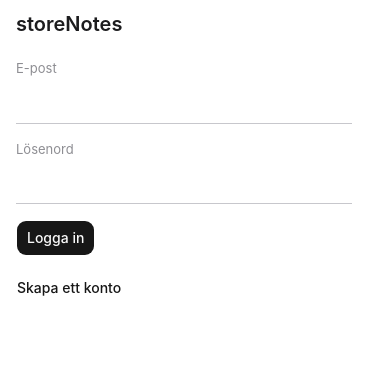
Test: signing in › explains an email that has not been confirmed
In the field labelled "E-post": (184, 103) [16,82,352,124], type "anna@example.com"
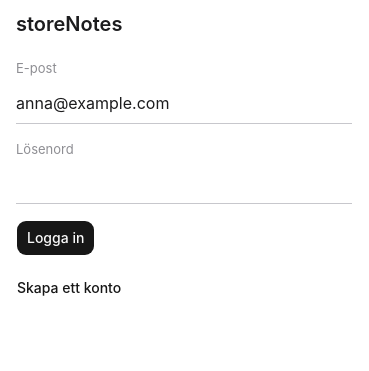
In the password field labelled "Lösenord": (184, 184) [16,163,352,204], type "correct horse"
Then press Enter
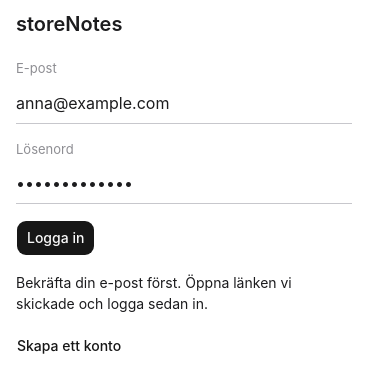
Expected: the message shows "Bekräfta din e-post först.", [16,274,292,312]
